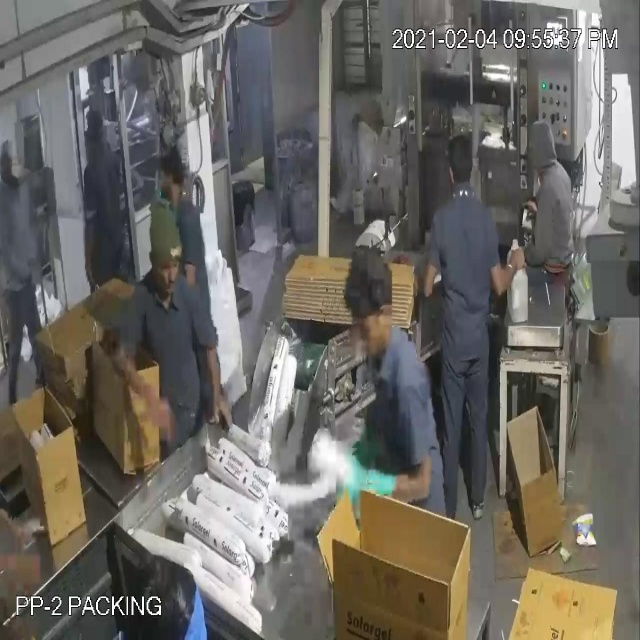Guantes: (330, 443, 408, 520)
Sin_guantes: (113, 346, 174, 444), (477, 228, 531, 314), (205, 332, 242, 444), (419, 254, 444, 309)
